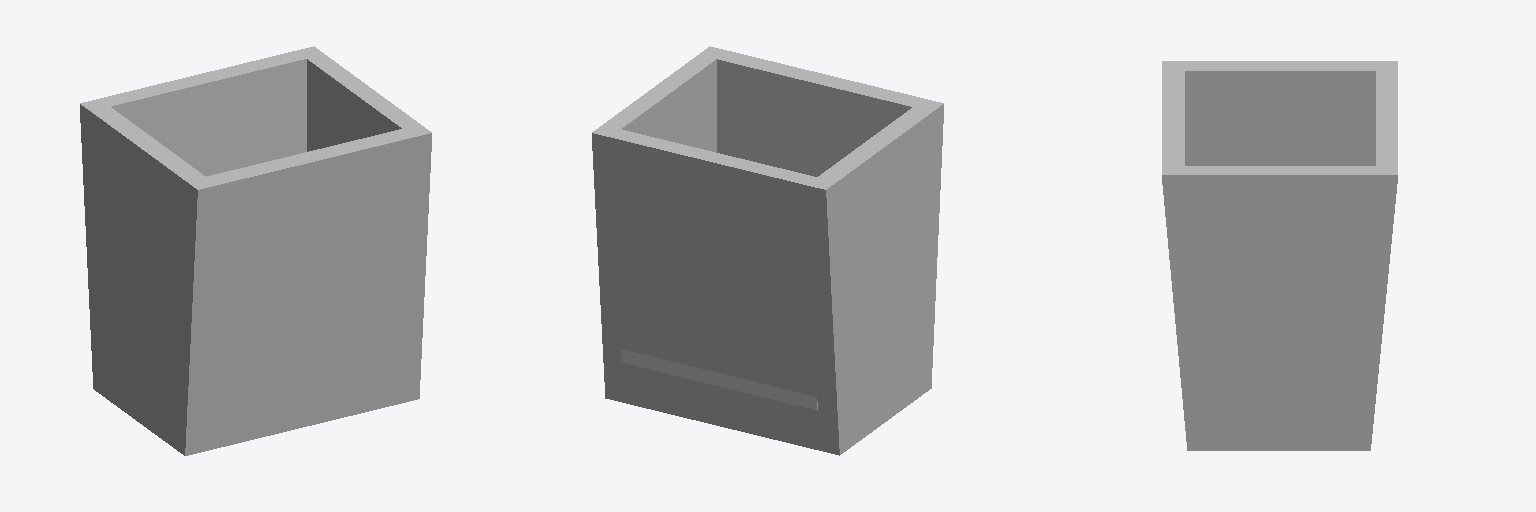
The model's file is mesh_trashcan.obj.
The picture shows the model from 3 angles: view 1: azimuth 30°, elevation 25°; view 2: azimuth 150°, elevation 25°; view 3: azimuth 270°, elevation 25°; orthographic projection.
Visible parts, largest first — view 1: Cube; view 2: Cube; view 3: Cube.
Part boxes in pixels (x1,y1,x2,y2): Cube: (80, 46, 431, 455); Cube: (592, 46, 943, 455); Cube: (1162, 61, 1397, 450).
Size of the model in its own units: 2.29 by 2.57 by 2.